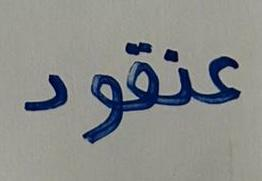ain: (194, 41, 244, 119)
dal: (15, 53, 75, 129)
noon: (160, 43, 193, 126)
qaf: (124, 30, 159, 119)
waw: (78, 63, 123, 147)
